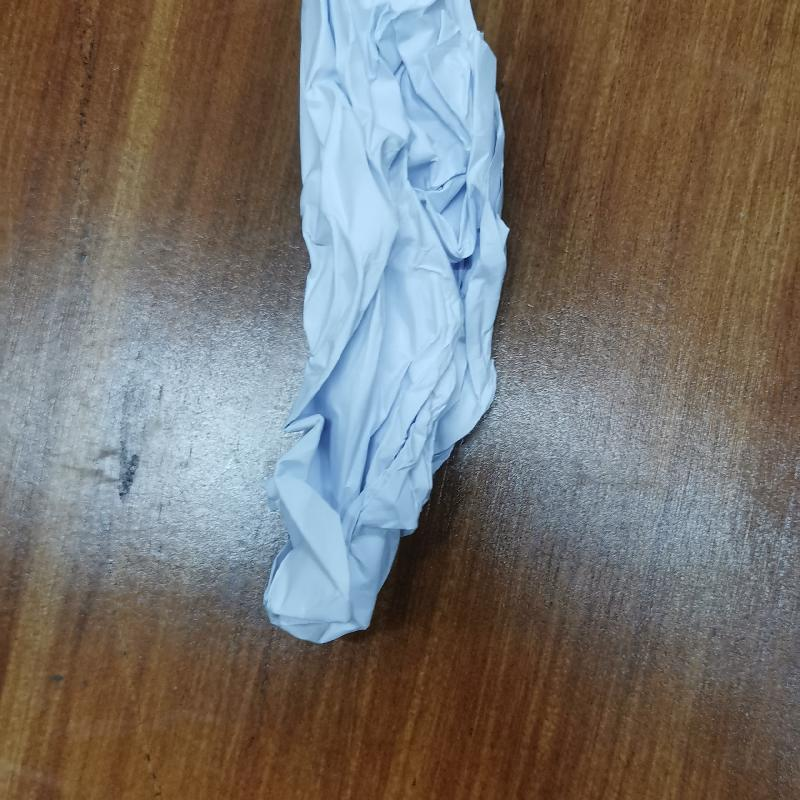spitball: (247, 2, 516, 647)
